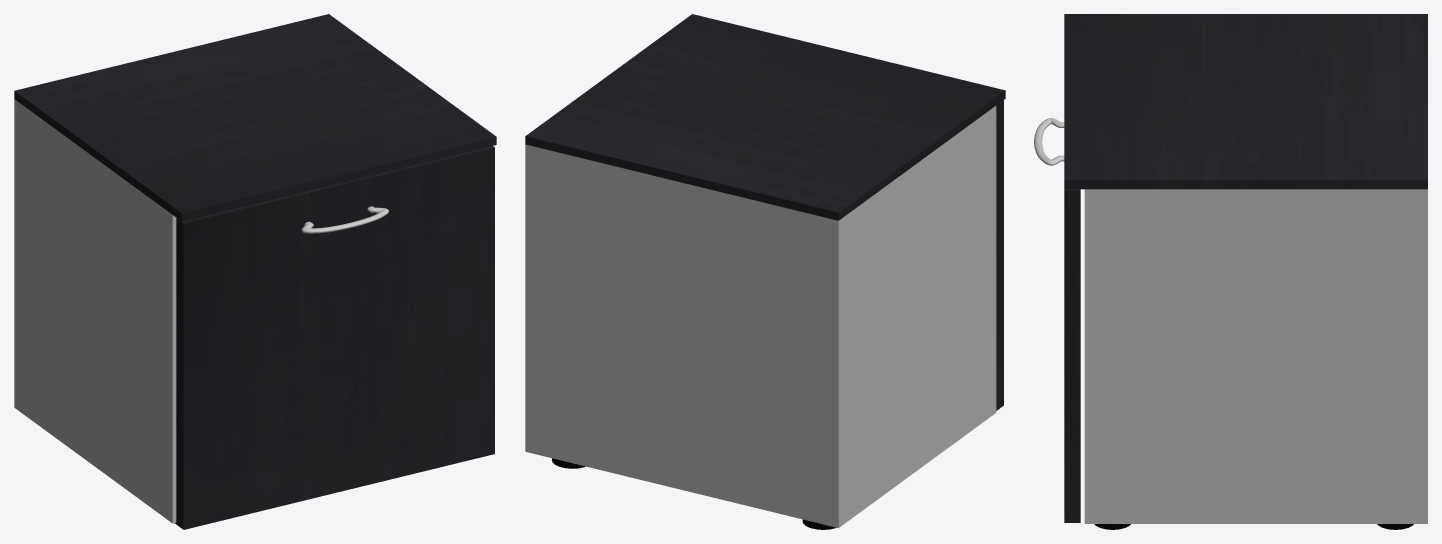
Rendered from sh-lp-mobile4580-w.glb.
3 views of the same model, side by side, from view 1: azimuth 30°, elevation 25°; view 2: azimuth 150°, elevation 25°; view 3: azimuth 270°, elevation 25° (orthographic). The views are drawn at different scales.
Parts seen in each view (by area): view 1: Box59_4, Line43_2; view 2: Line43_2, Box59_4; view 3: Line43_2, Box59_4.
Part boxes in pixels (x1,y1,x2,y2): Box59_4: (14,14,496,529); Line43_2: (14,99,388,523); Line43_2: (525,106,996,527); Box59_4: (525,14,1005,410); Line43_2: (1034,118,1427,523); Box59_4: (1064,14,1427,522).
Bounding box in the file's own units: 1 × 1 × 1.
3 materials, 1 textured.
